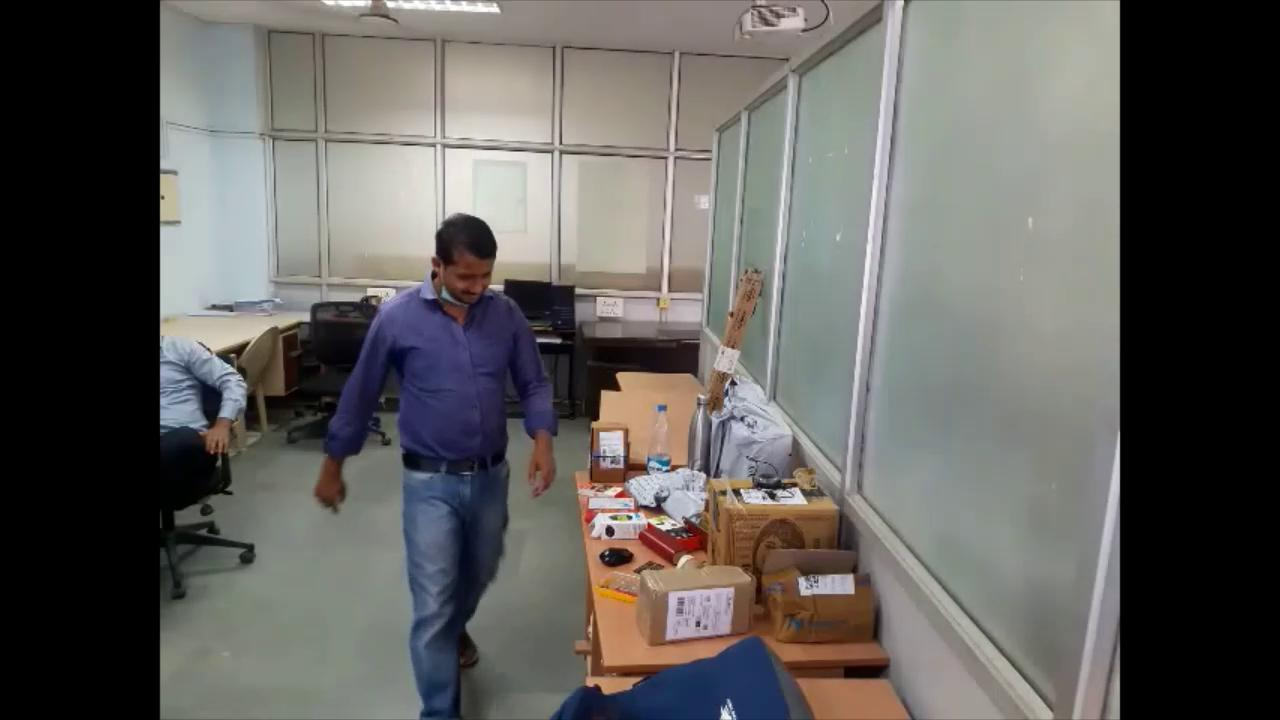Normal: (306, 199, 561, 720)
